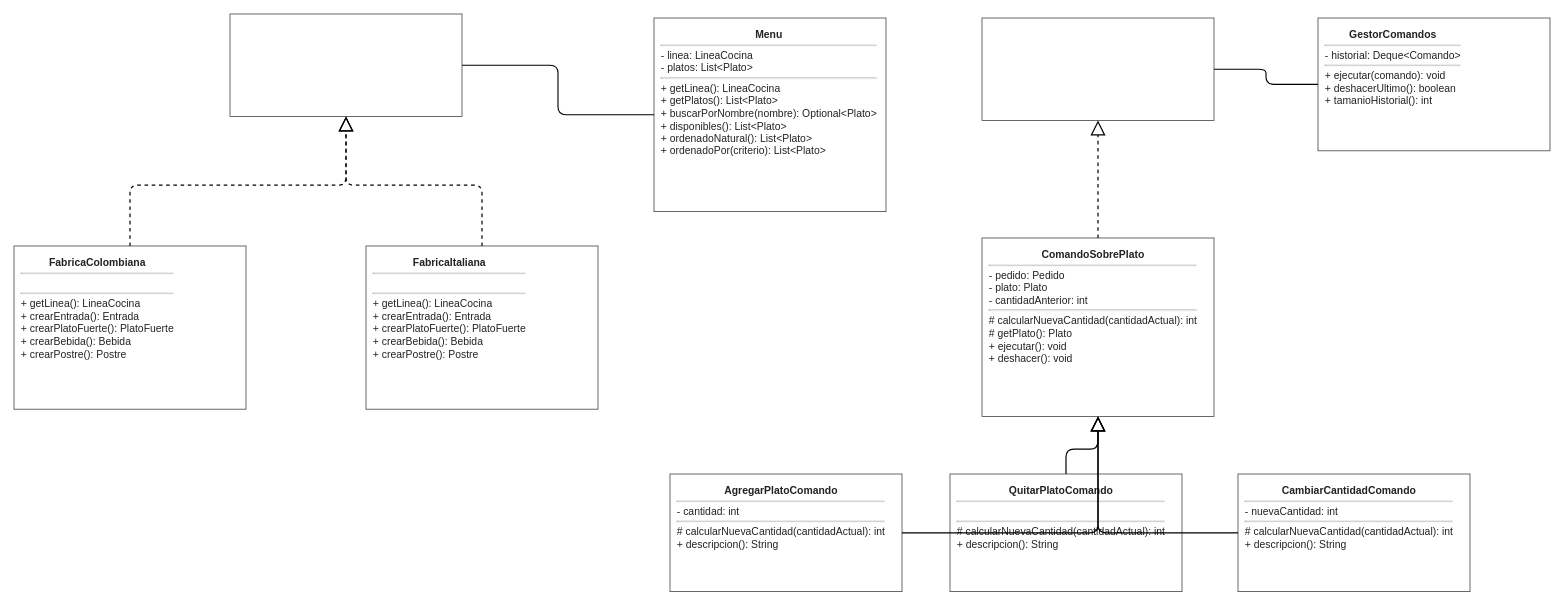
Some shapes in this 1564 by 606 pixel diagram are drawn without their labels. Each missing label, with the box of its shape:
FabricaCocina: (229, 13, 462, 116)
«interface» Comando: (981, 17, 1214, 120)
